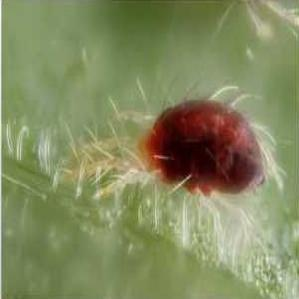spider mite: (64, 65, 299, 246)
